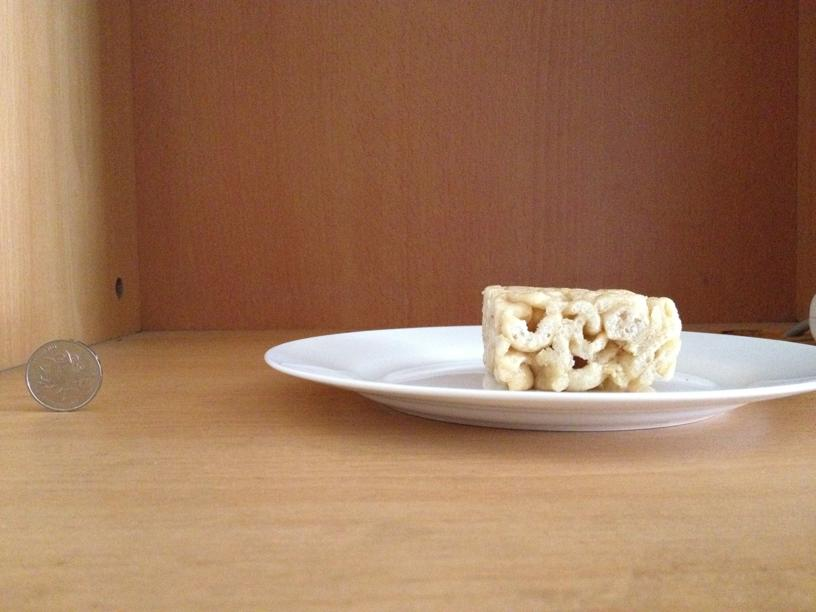coin: (22, 341, 103, 411)
sachima: (482, 281, 680, 389)
